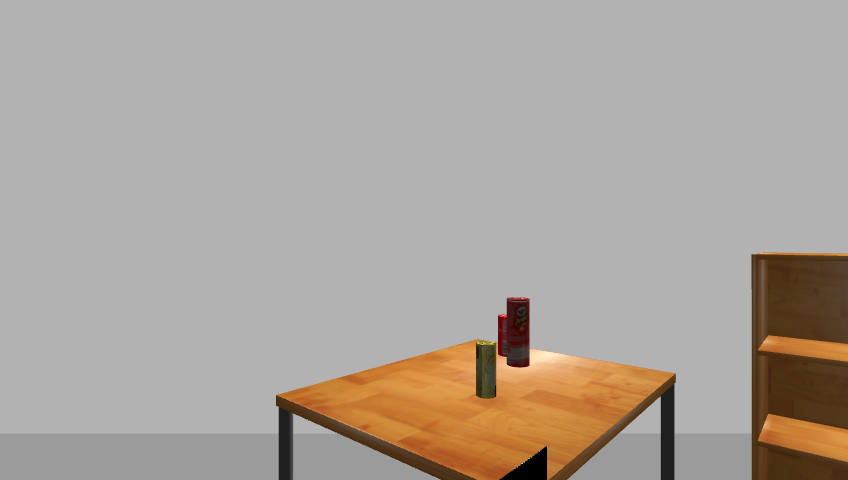aruco marker: (491, 446, 551, 480)
biscuits pack: (475, 341, 497, 400)
bookshelf: (746, 251, 848, 479)
coke can: (495, 313, 509, 363)
dinner table: (268, 340, 686, 480)
pringles can: (505, 297, 531, 369)
